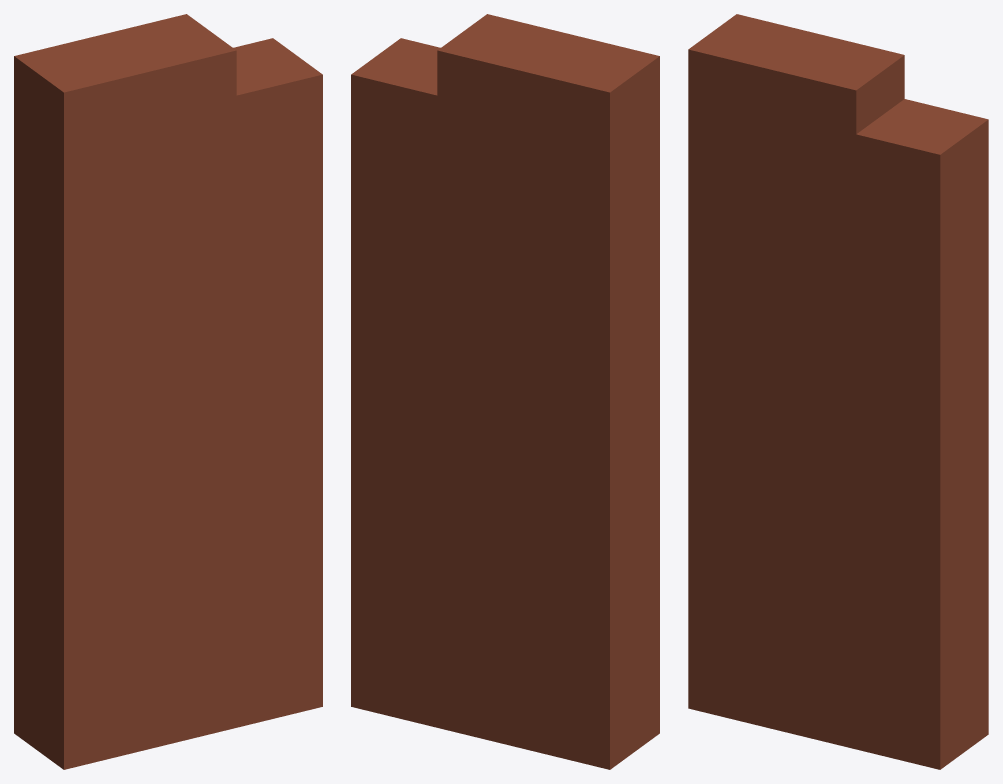
File: wood-plank.glb
3 views of the same model, side by side, from view 1: azimuth 30°, elevation 25°; view 2: azimuth 150°, elevation 25°; view 3: azimuth 330°, elevation 25° (orthographic). The views are drawn at different scales.
Parts seen in each view (by area): view 1: generated(Clone); view 2: generated(Clone); view 3: generated(Clone).
Boxes of the visible parts, x1,y1,x2,y2 form: generated(Clone): [14, 14, 322, 769]; generated(Clone): [351, 14, 659, 769]; generated(Clone): [688, 14, 988, 769].
Bounding box in the file's own units: 3 × 7.5 × 1.
1 material, 1 textured.
